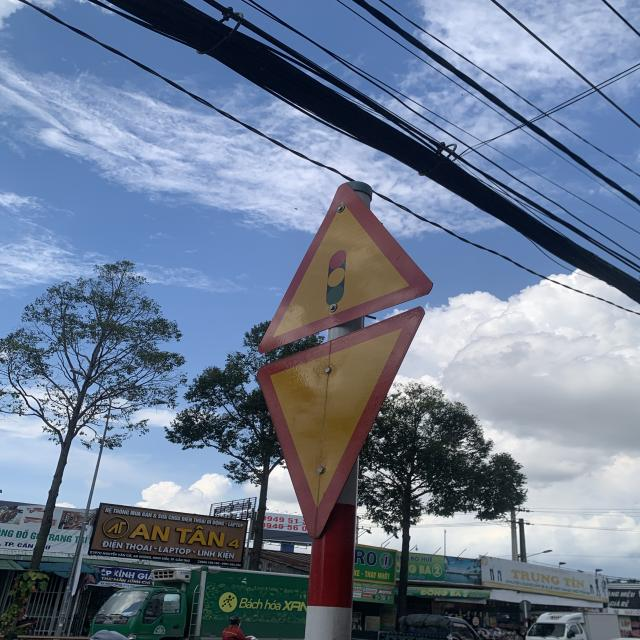Duong_Co_Go_Giam_Toc: (252, 182, 434, 350)
Gioi_Han_Toc_Do_25: (254, 305, 427, 540)
